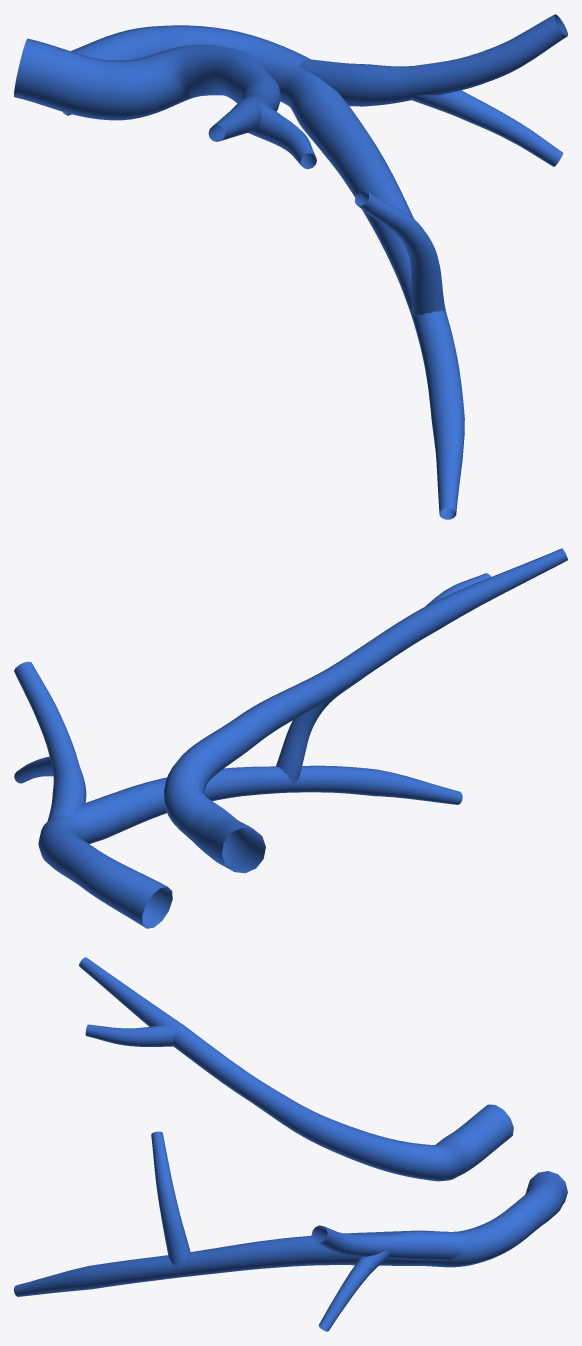
The model's file is circulatorio-anterior-segmental-artery-of-left-lung.glb.
3 renders of one model, top to bottom at view 1: azimuth 30°, elevation 25°; view 2: azimuth 150°, elevation 25°; view 3: azimuth 270°, elevation 25°, orthographic. The views are drawn at different scales.
Parts seen in each view (by area): view 1: Anterior segmental artery of left lung; view 2: Anterior segmental artery of left lung; view 3: Anterior segmental artery of left lung.
Boxes of the visible parts, x1,y1,x2,y2 form: Anterior segmental artery of left lung: (14, 14, 567, 519); Anterior segmental artery of left lung: (14, 548, 567, 928); Anterior segmental artery of left lung: (14, 957, 567, 1331).
Size of the model in its own units: 0.0712 by 0.0519 by 0.0939.
